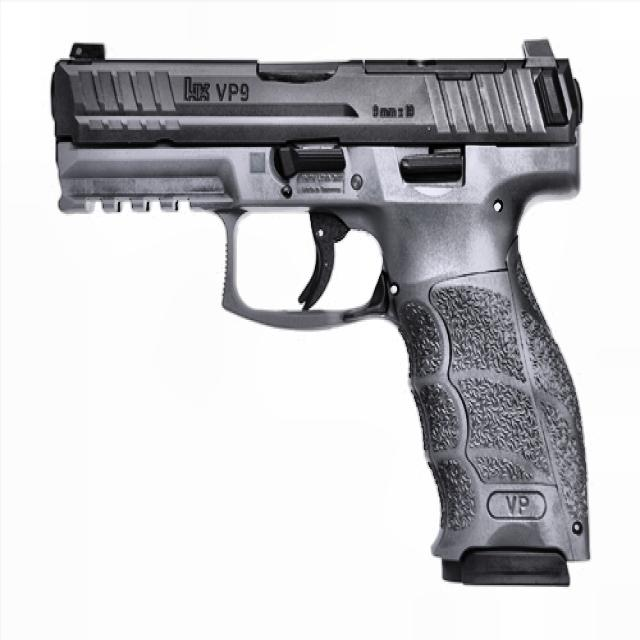HKVP9: (48, 34, 592, 587)
